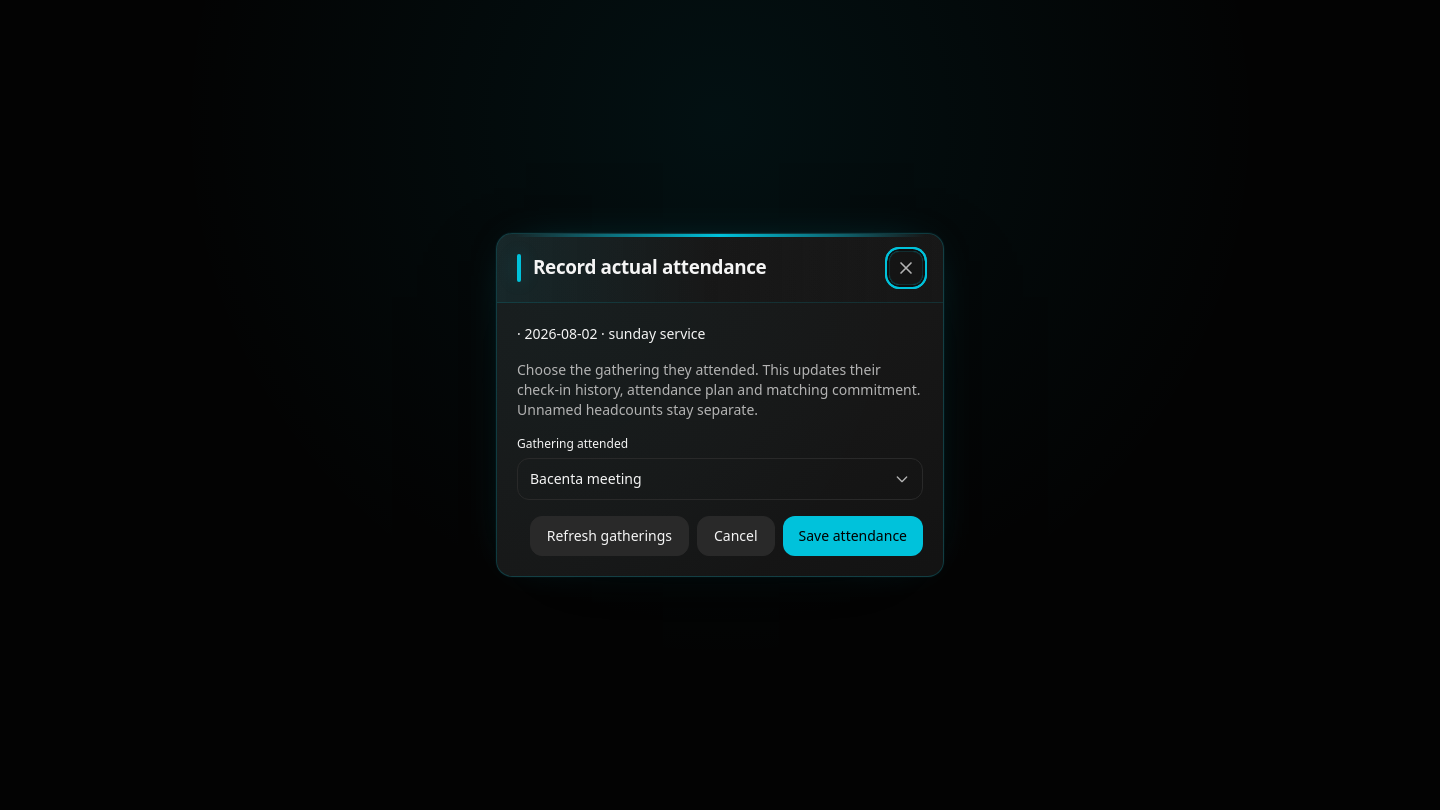
Test: actual attendance selection › keeps a failed save visible for retry without claiming attendance was recorded
Click the button "Save attendance" at (853, 536), box [783, 516, 923, 556]
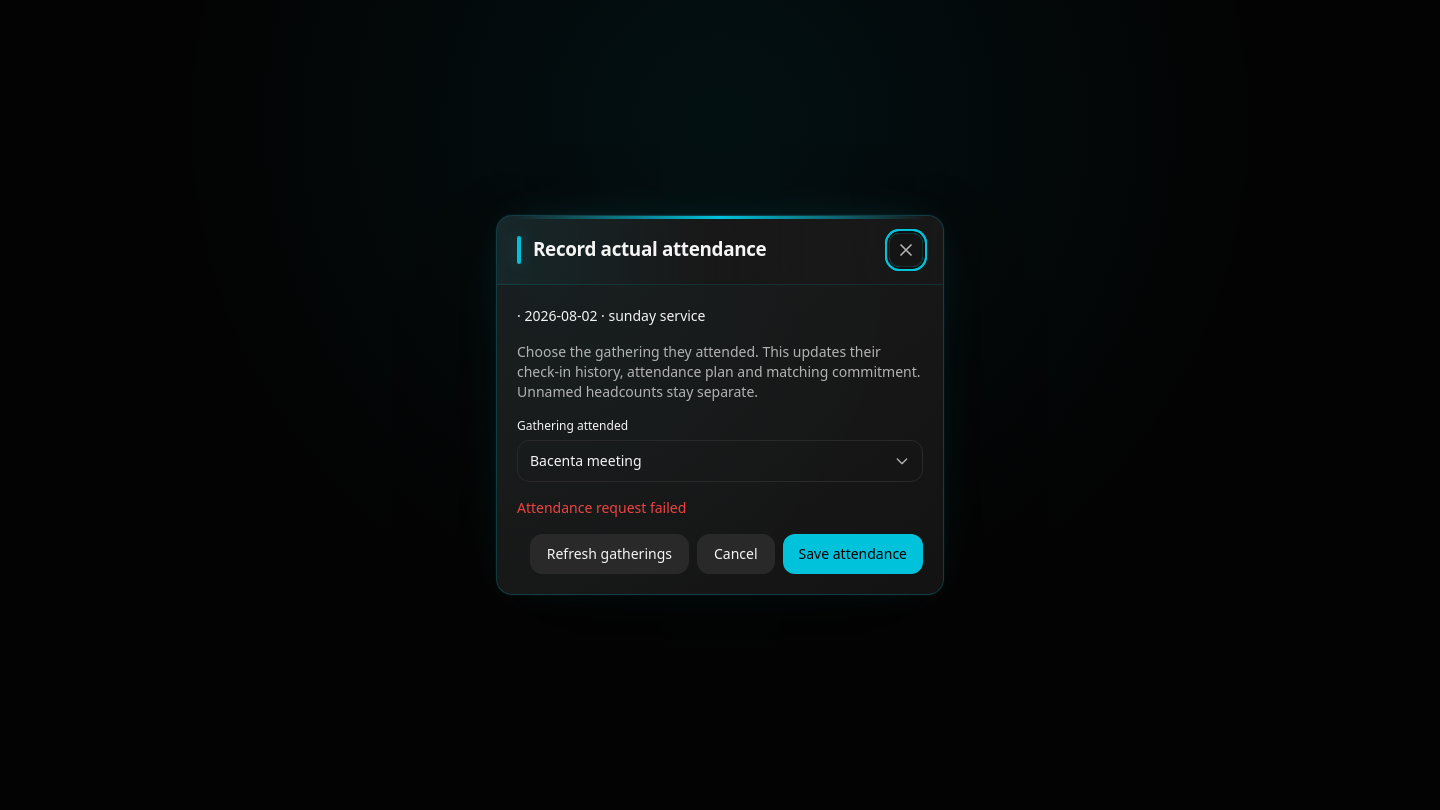
Expected: the button "Save attendance" is enabled, [783, 534, 923, 574]
Expected: the message reads "Attendance request failed", [517, 498, 686, 517]
